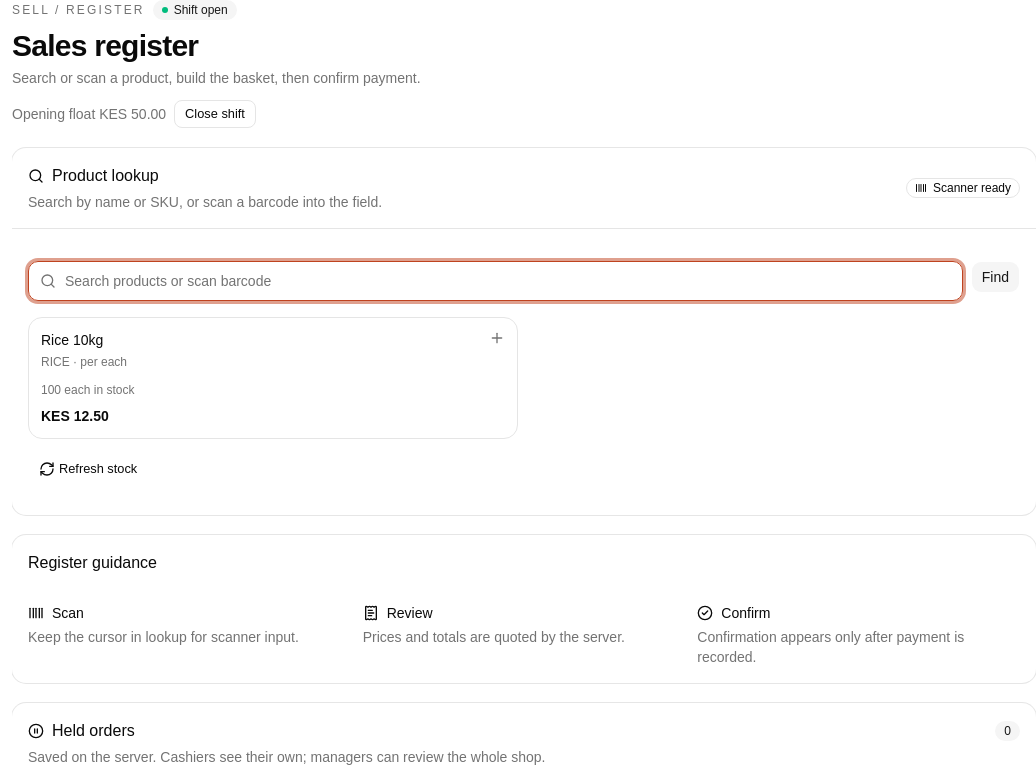
does not invent a sale when the server quote fails
This screenshot has width=1036, height=768.
Click the button "Rice 10kg RICE · per each 100 each in stock KES 12.50": (72, 340) [28,317,518,439]
(page scrolled)
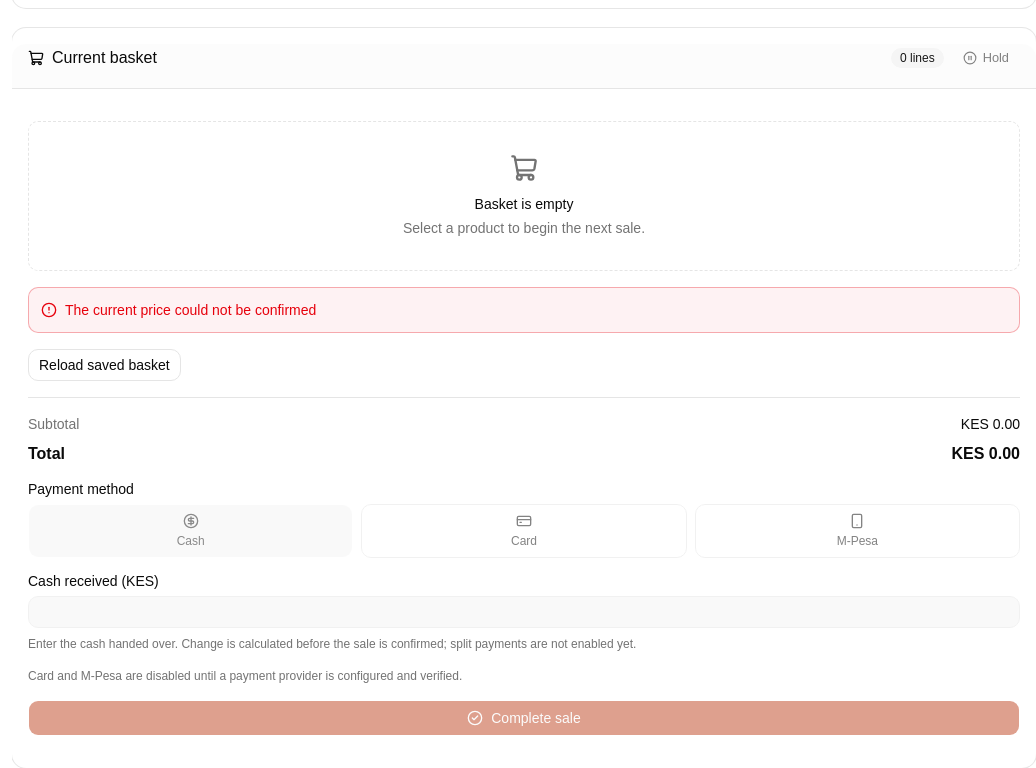
Check: the button "Complete sale" is disabled, box [28,700,1020,736]
Check: the text "The current price could not be confirmed" is shown, box [28,287,1020,333]
